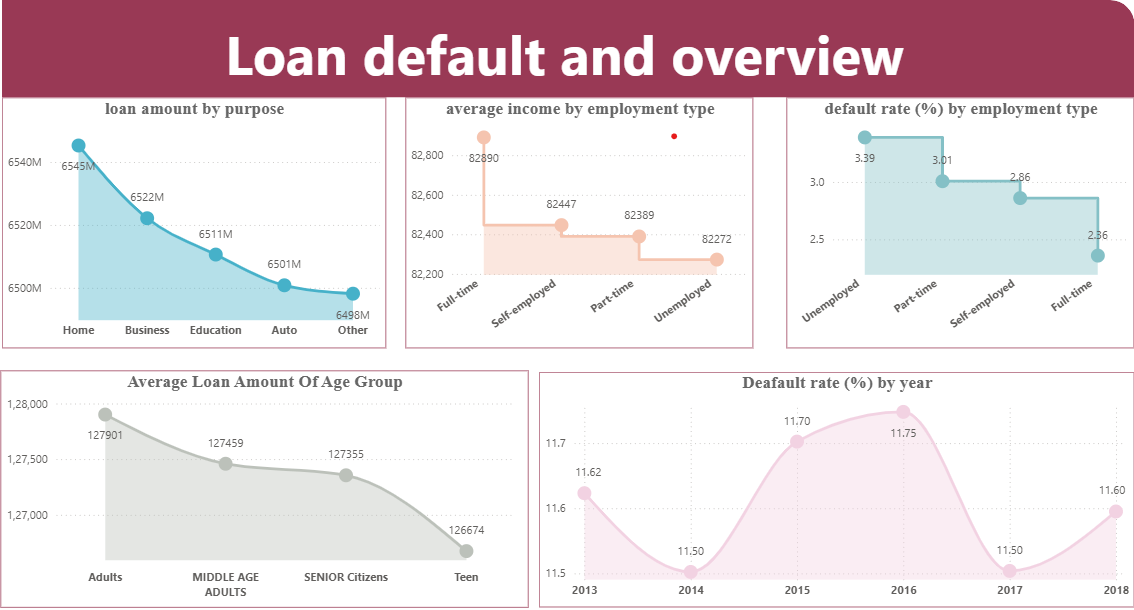

Layout of this report page (visuals, bound fields, positions):
{"tool":"powerbi","page":{"name":"loan default & overview","canvas":[1280,720],"ordinal":0},"visuals":[{"type":"shape","box":[16.2,48.6,1222.5,105.2],"z":0},{"type":"lineChart","title":"loan amount by  purpose","fields":{"Y":["measure table 1.loan amount by  purpose"],"Category":["Loan+Dataset+Link (1).LoanPurpose"]},"box":[16.2,153.8,414.5,270.4],"z":1000},{"type":"lineChart","title":"average income by employment type","fields":{"Y":["measure table 1.Average income by employment type"],"Category":["Loan+Dataset+Link (1).EmploymentType"]},"box":[451.8,153.8,375.7,270.4],"z":2000},{"type":"lineChart","title":"default rate (%) by employment type","fields":{"Y":["measure table 1.default rate by employment type"],"Category":["Loan+Dataset+Link (1).EmploymentType"]},"box":[850.1,153.8,388.6,270.4],"z":3000},{"type":"lineChart","title":"Average Loan Amount Of Age Group","fields":{"Y":["measure table 1.Average Loan by Age Group"],"Category":["Loan+Dataset+Link (1).Age Groups"]},"box":[14.6,448.5,600.7,255.8],"z":4000},{"type":"lineChart","title":"Deafault rate (%) by year","fields":{"Y":["measure table 1.Default Rate by Year"],"Category":["Loan+Dataset+Link (1).Year"]},"box":[628.3,450.1,610.4,254.2],"z":5000}]}

Visuals, with their boxes on the page's 1280x720 design canvas (x1, y1, x2, y2). These are canvas units, not pixel positions in the 1134x610 screenshot, which may show the page scaled, cropped or inside an application window:
shape: crop(16, 49, 1239, 154)
"loan amount by  purpose" lineChart: crop(16, 154, 431, 424)
"average income by employment type" lineChart: crop(452, 154, 828, 424)
"default rate (%) by employment type" lineChart: crop(850, 154, 1239, 424)
"Average Loan Amount Of Age Group" lineChart: crop(15, 448, 615, 704)
"Deafault rate (%) by year" lineChart: crop(628, 450, 1239, 704)
